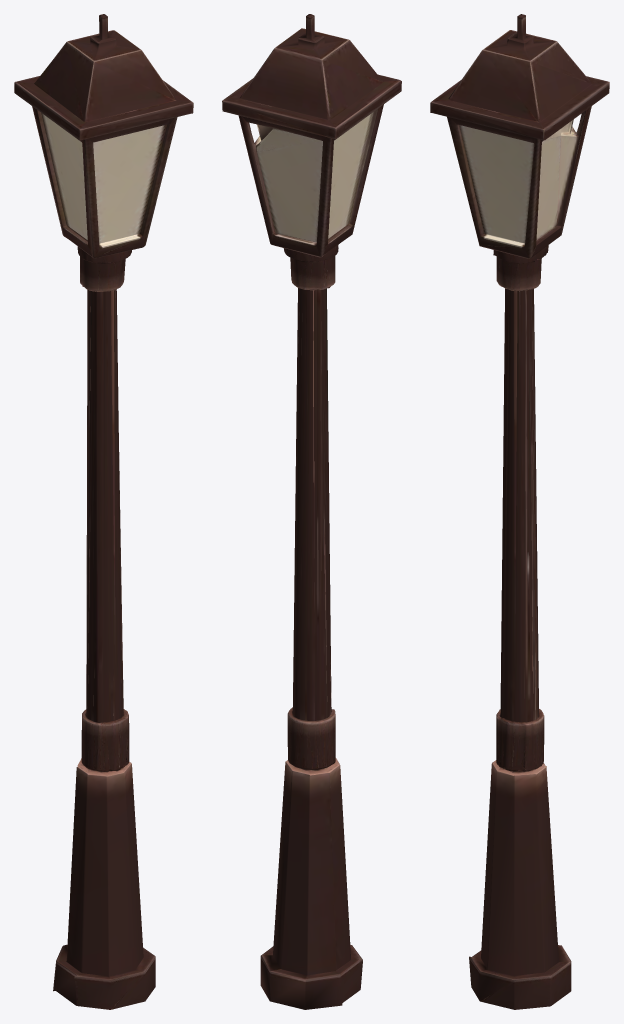
File: lamp-post.glb
The picture shows the model from 3 angles, left to right: view 1: azimuth 30°, elevation 25°; view 2: azimuth 150°, elevation 25°; view 3: azimuth 330°, elevation 25°; orthographic projection.
Bounding box in the file's own units: 0.1167 × 0.9512 × 0.1167.
Materials: 1 (1 with a texture image).
